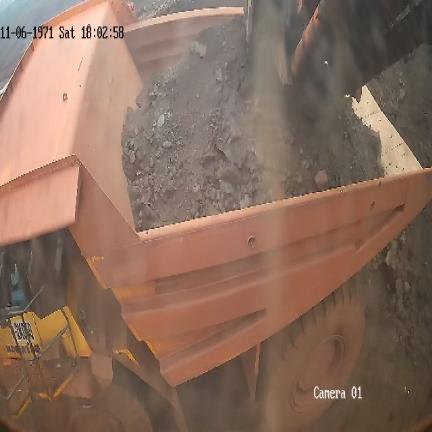pile: (124, 16, 383, 226), (359, 199, 432, 368)
